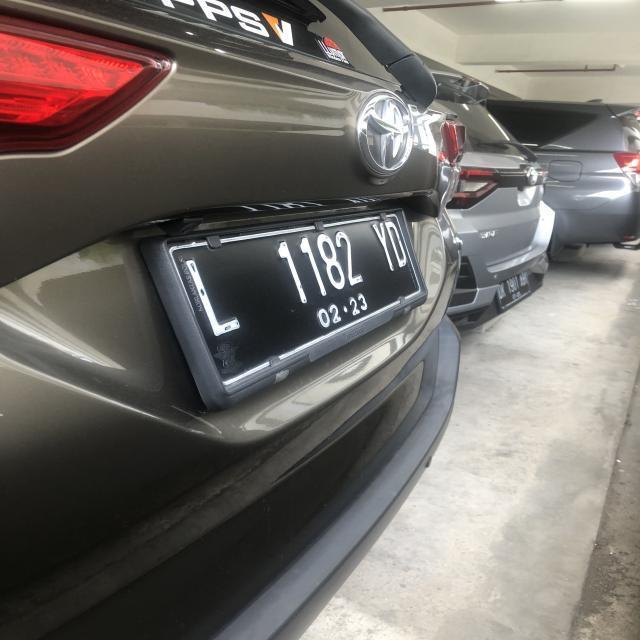1: (276, 238, 312, 306), (296, 236, 328, 301)
2: (334, 228, 362, 286)
8: (320, 234, 346, 292)
D: (388, 212, 408, 278)
L: (184, 252, 244, 338)
Y: (372, 219, 394, 273)
